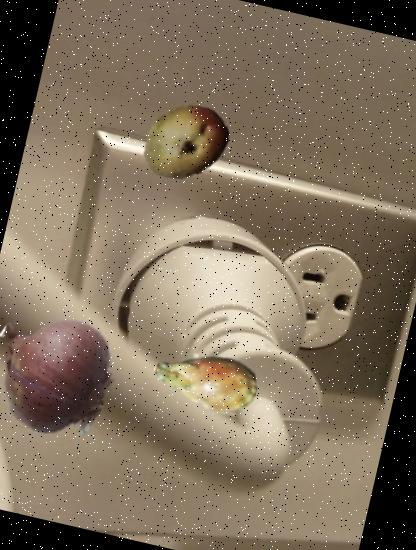Cactus: (142, 316, 269, 444)
Onion: (0, 294, 127, 446)
Papaya: (132, 88, 240, 196)
